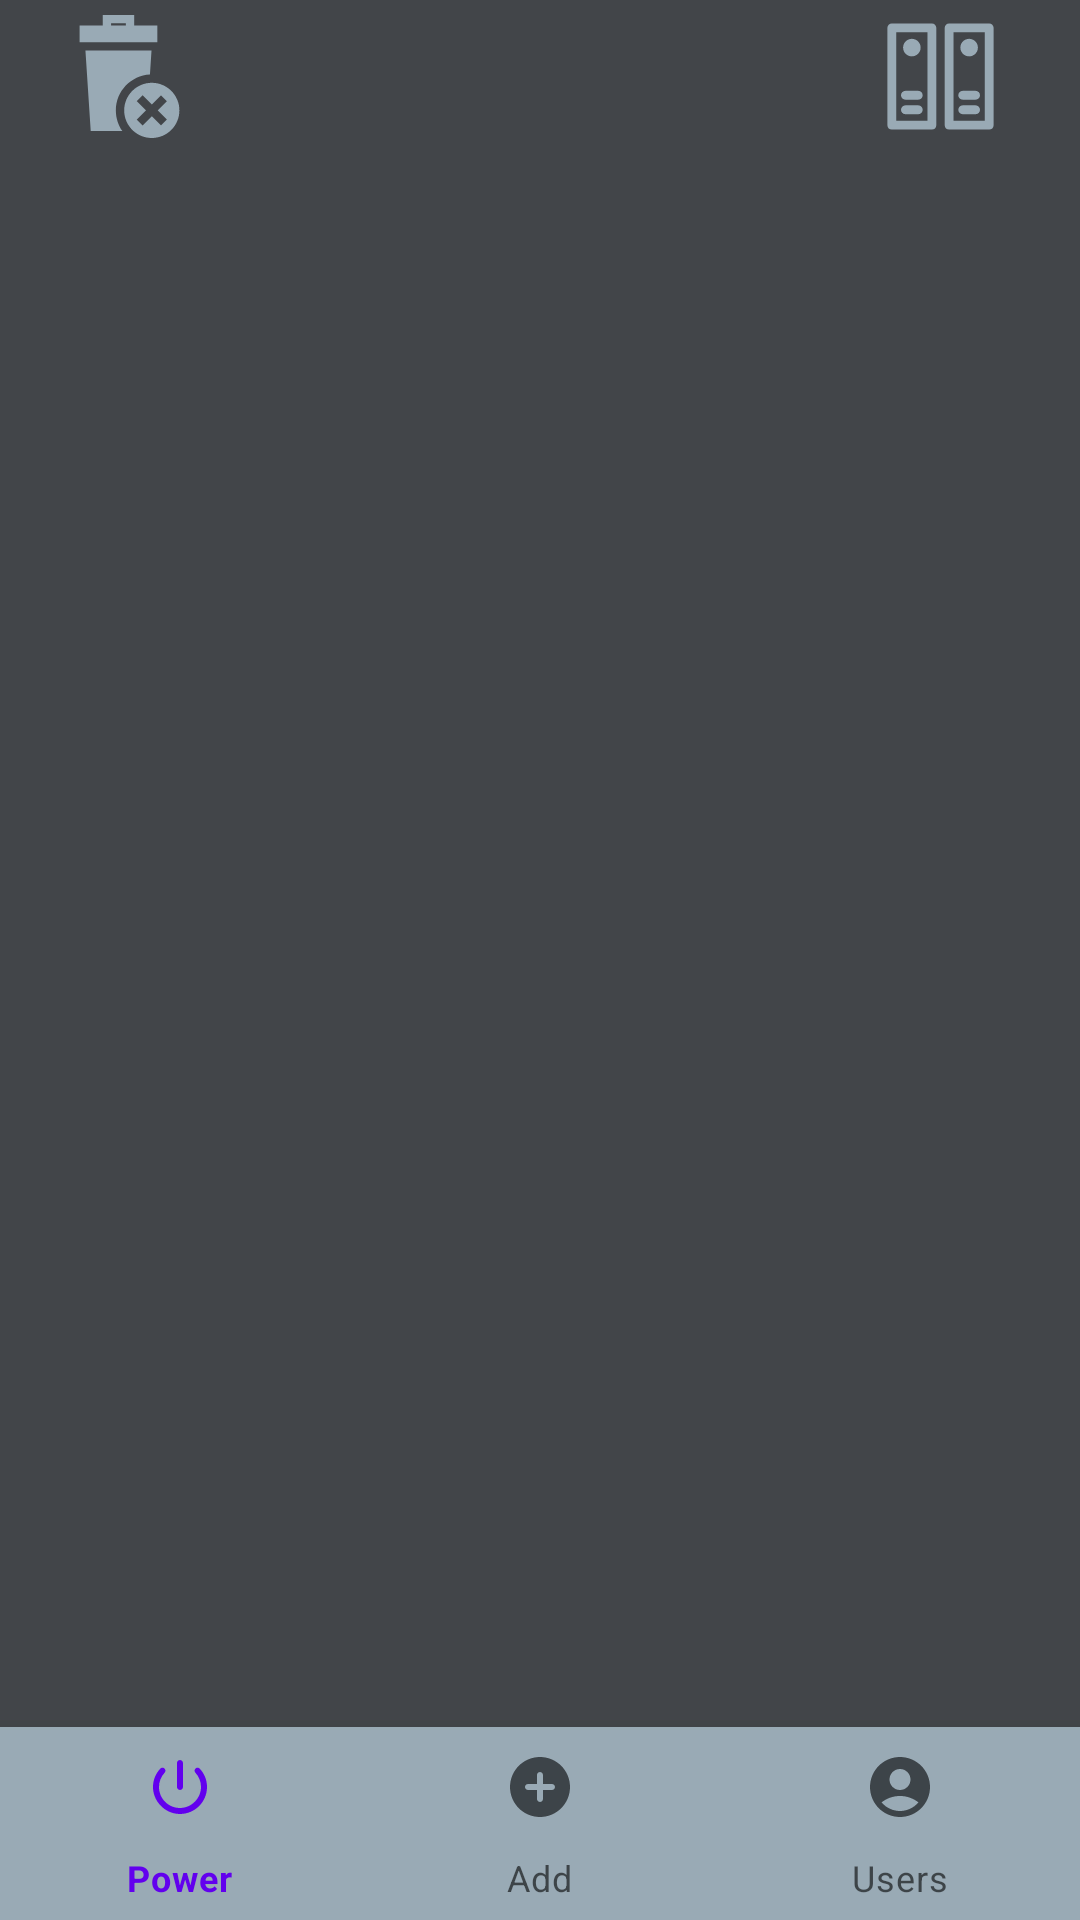

Where icons sit on this 1080w x 1920h app screen, as (x1, y1, x2, y2):
archives: (887, 23, 994, 130)
delete all: (79, 15, 180, 138)
